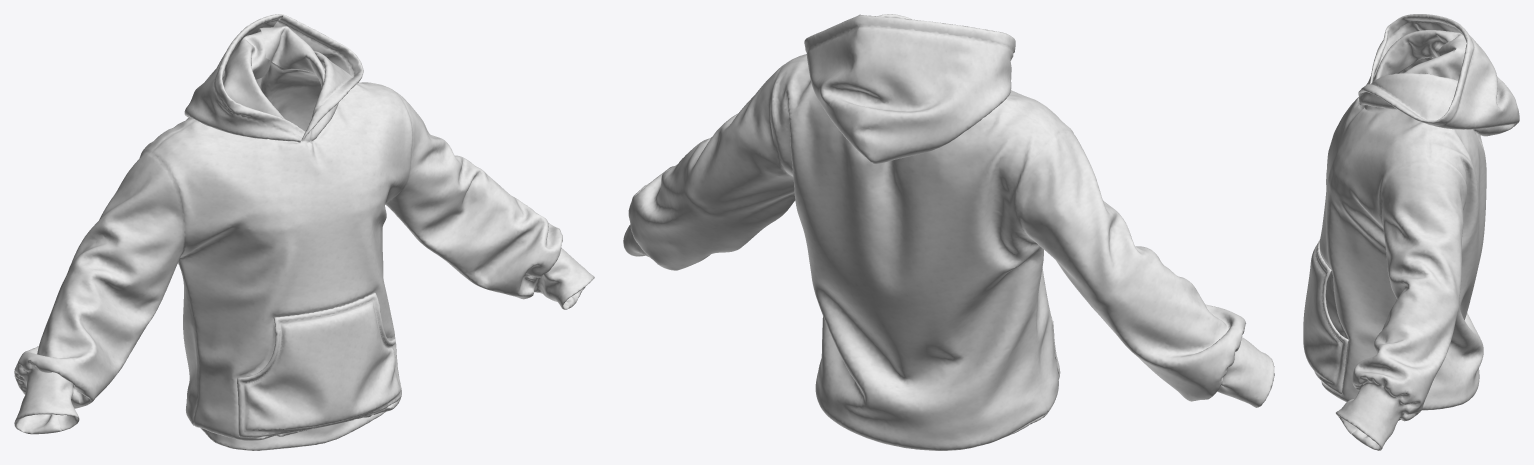
The model's file is hoodie.glb.
3 renders of one model, left to right at view 1: azimuth 30°, elevation 25°; view 2: azimuth 150°, elevation 25°; view 3: azimuth 270°, elevation 25°, orthographic. The views are drawn at different scales.
Visible parts, largest first — view 1: Hoodie_FABRIC 3_FRONT_1850_0.001; view 2: Hoodie_FABRIC 3_FRONT_1850_0.001; view 3: Hoodie_FABRIC 3_FRONT_1850_0.001.
Boxes of the visible parts, x1=… form: Hoodie_FABRIC 3_FRONT_1850_0.001: x1=14, y1=14, x2=594, y2=450; Hoodie_FABRIC 3_FRONT_1850_0.001: x1=623, y1=14, x2=1274, y2=450; Hoodie_FABRIC 3_FRONT_1850_0.001: x1=1303, y1=14, x2=1519, y2=450.
Bounding box in the file's own units: 1.28 × 0.7962 × 0.4408.
Materials: 1 (1 with a texture image).
